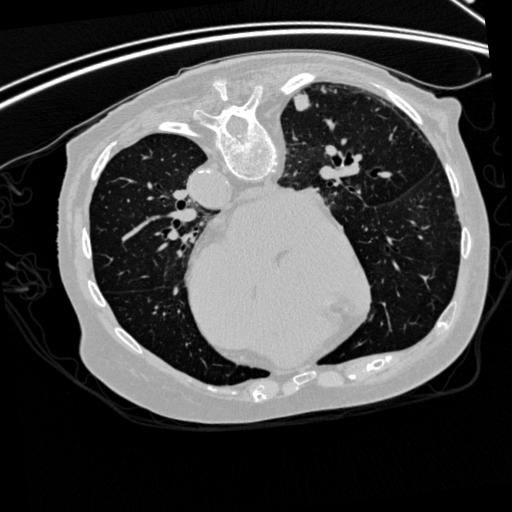nodule: (288, 90, 316, 118)
